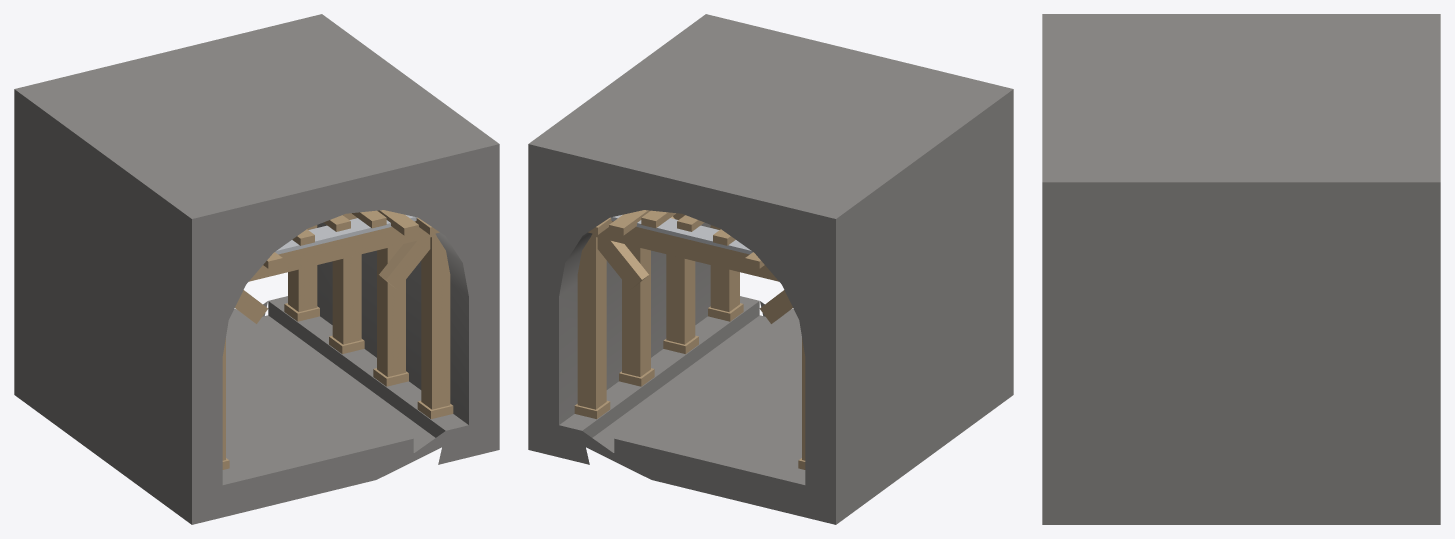
File: underground-mine-and-shaft-works-drift-timbered-set-a76922be.glb
The picture shows the model from 3 angles, left to right: view 1: azimuth 30°, elevation 25°; view 2: azimuth 150°, elevation 25°; view 3: azimuth 270°, elevation 25°; orthographic projection. The views are drawn at different scales.
Parts seen in each view (by area): view 1: drift-timbered-set; view 2: drift-timbered-set; view 3: drift-timbered-set.
Part boxes in pixels (x1,y1,x2,y2): drift-timbered-set: [14, 14, 499, 524]; drift-timbered-set: [528, 14, 1013, 524]; drift-timbered-set: [1042, 14, 1440, 524].
Bounding box in the file's own units: 4 × 3.8 × 4.
